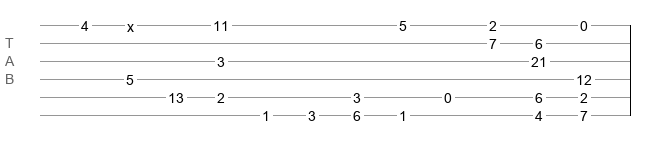0: (444, 90, 452, 100), (580, 18, 588, 28)
1: (262, 108, 270, 118), (399, 108, 407, 118)
11: (213, 18, 229, 28)
12: (576, 72, 592, 82)
13: (168, 90, 184, 100)
2: (217, 90, 225, 100), (489, 18, 497, 28), (580, 90, 588, 100)
21: (531, 54, 547, 64)
3: (217, 54, 225, 64), (308, 108, 316, 118), (353, 90, 361, 100)
4: (81, 18, 89, 28), (535, 108, 543, 118)
5: (126, 72, 134, 82), (399, 18, 407, 28)
6: (353, 108, 361, 118), (535, 90, 543, 100), (535, 36, 543, 46)
7: (489, 36, 497, 46), (580, 108, 588, 118)
x: (127, 19, 134, 27)
